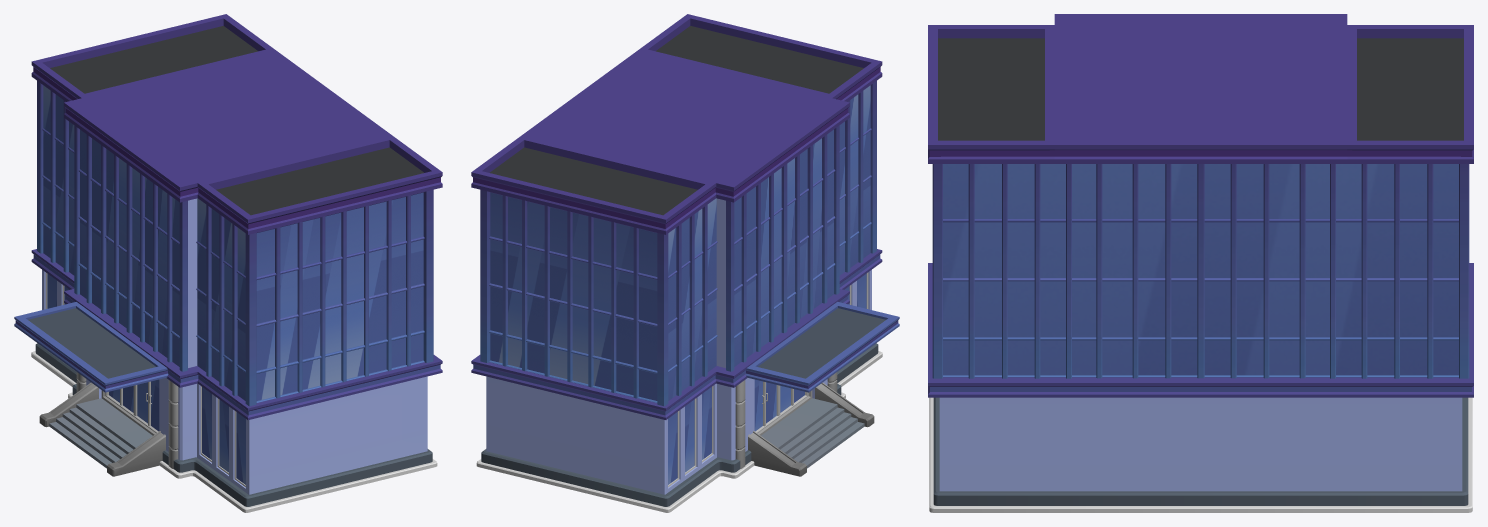
The model's file is Building_17_1_C.fbx.
3 renders of one model, left to right at view 1: azimuth 30°, elevation 25°; view 2: azimuth 150°, elevation 25°; view 3: azimuth 270°, elevation 25°, orthographic. The views are drawn at different scales.
Visible parts, largest first — view 1: Building_17_1_C; view 2: Building_17_1_C; view 3: Building_17_1_C.
Part boxes in pixels (<box>): Building_17_1_C: <box>14,14,442,512</box>; Building_17_1_C: <box>471,14,899,512</box>; Building_17_1_C: <box>928,14,1473,512</box>.
Size of the model in its own units: 857 by 875 by 1168.
